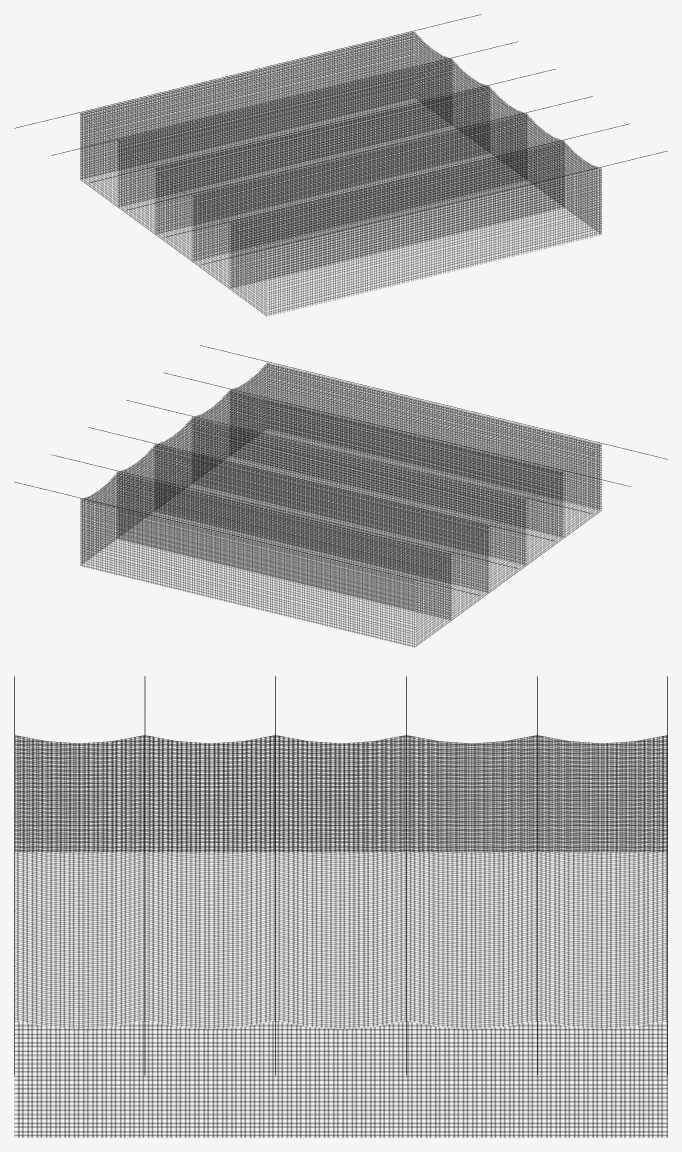
Rendered from Phantom.glb.
3 renders of one model, top to bottom at view 1: azimuth 30°, elevation 25°; view 2: azimuth 150°, elevation 25°; view 3: azimuth 270°, elevation 25°, orthographic. The views are drawn at different scales.
Visible parts, largest first — view 1: Plane.017; view 2: Plane.017; view 3: Plane.017.
Part boxes in pixels (bbox=[...]): Plane.017: bbox=[14, 14, 667, 316]; Plane.017: bbox=[14, 345, 667, 647]; Plane.017: bbox=[14, 676, 667, 1137].
Size of the model in its own units: 29.38 by 4.11 by 20.36.
3 materials, 1 textured.
